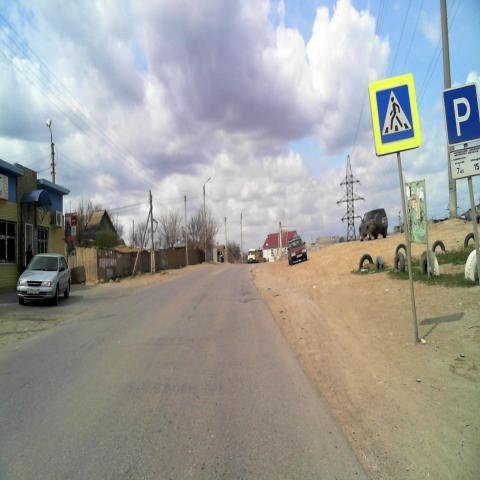6_4: (442, 83, 480, 146)
